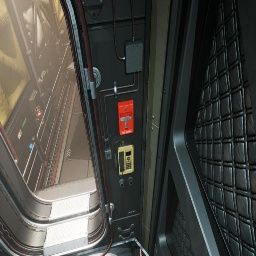EmergencyPhone ,: (114, 139, 134, 177)
FireAlarm ,: (117, 100, 133, 135)
FireExtinguisher ]: (140, 248, 142, 256)
NitrogenTank ,: (35, 106, 50, 141)
